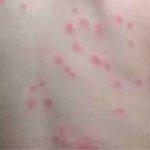Fleas: (53, 125, 101, 149), (87, 51, 113, 70), (62, 64, 80, 82), (113, 105, 126, 118), (113, 14, 123, 26), (125, 36, 135, 48), (65, 21, 74, 33), (27, 98, 36, 110), (72, 42, 83, 51), (43, 97, 52, 108), (80, 20, 88, 29), (127, 21, 133, 31), (56, 55, 63, 63), (95, 23, 101, 32), (31, 83, 37, 91)
